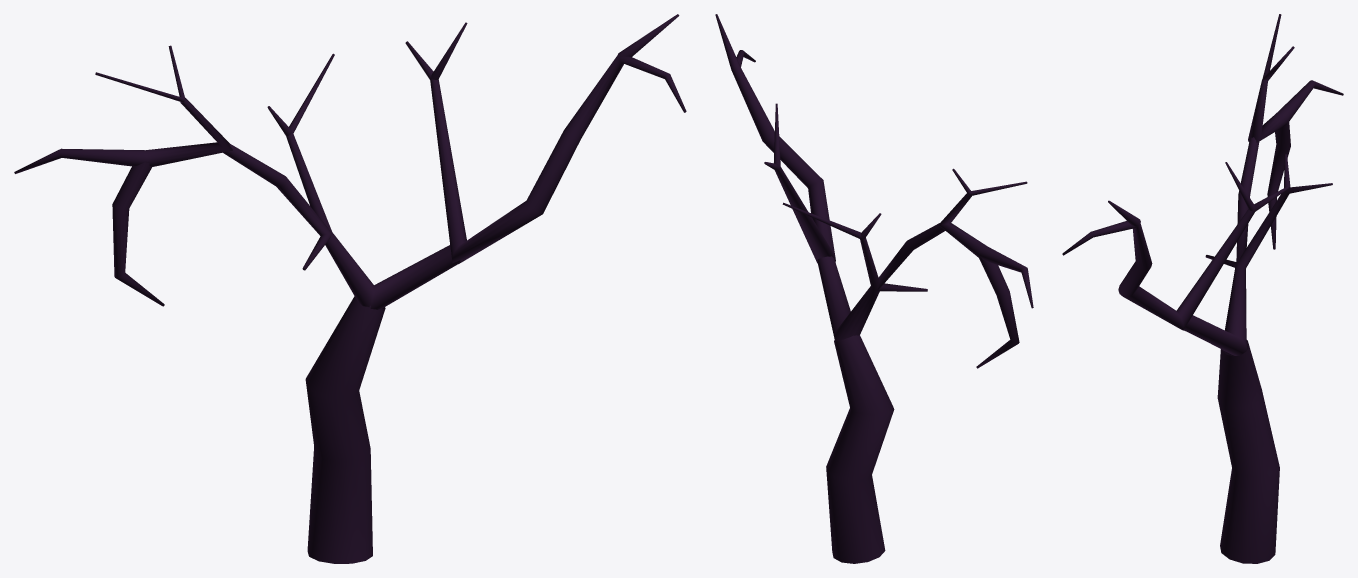
File: arbre2_violet.fbx
3 renders of one model, left to right at view 1: azimuth 30°, elevation 25°; view 2: azimuth 150°, elevation 25°; view 3: azimuth 270°, elevation 25°, orthographic. The views are drawn at different scales.
Parts seen in each view (by area): view 1: Vert; view 2: Vert; view 3: Vert.
Boxes of the visible parts, x1,y1,x2,y2 form: Vert: [14, 14, 686, 563]; Vert: [715, 14, 1033, 563]; Vert: [1062, 14, 1343, 563].
Size of the model in its own units: 128 by 125 by 69.68.
